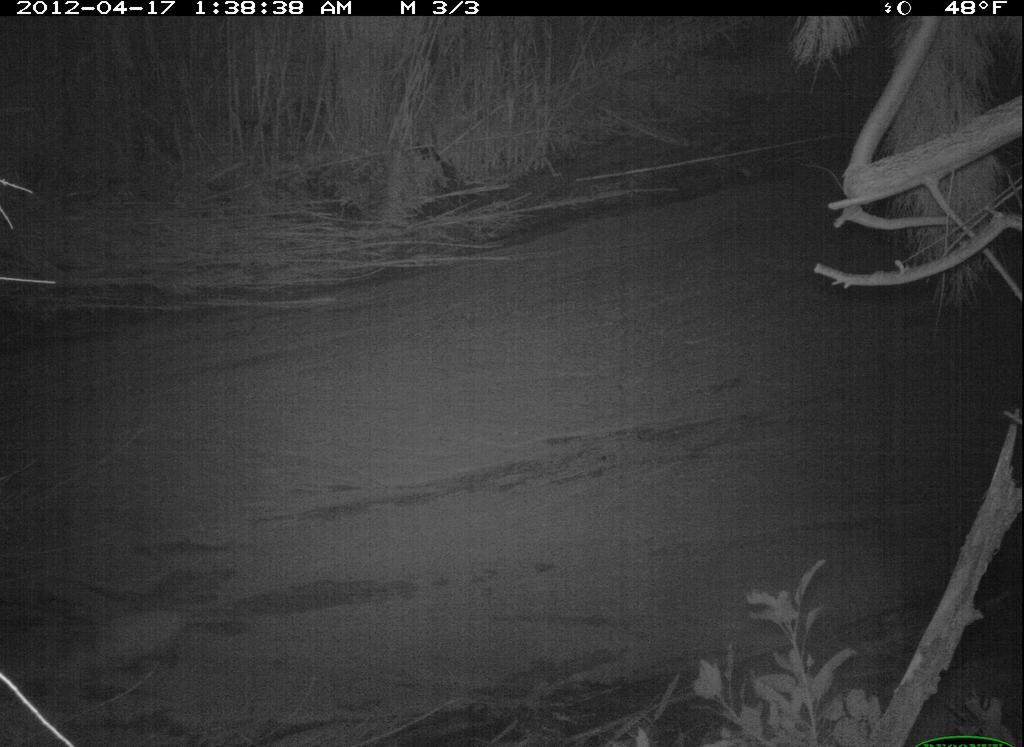opossum: (45, 585, 258, 690)
